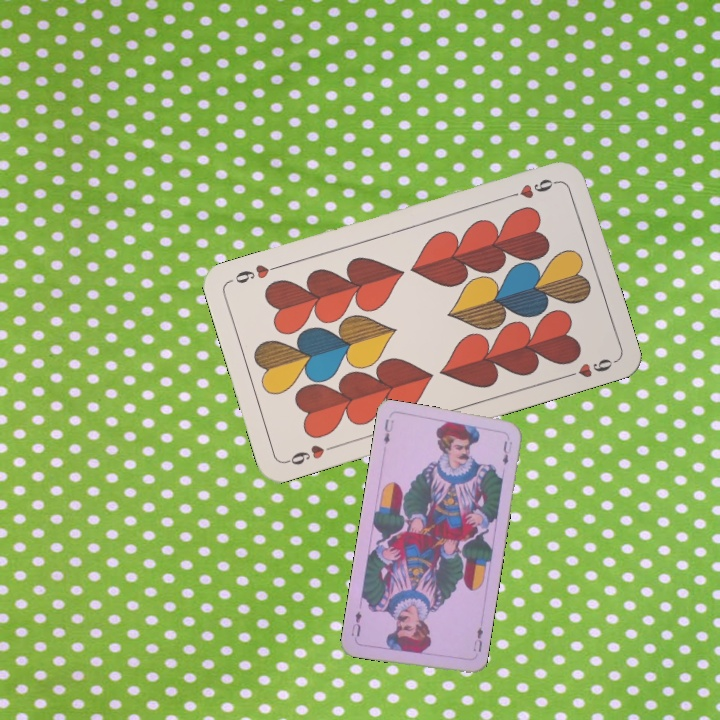EU: (379, 415, 396, 447), (469, 623, 485, 654)
H9: (503, 174, 562, 201), (281, 441, 339, 468)
